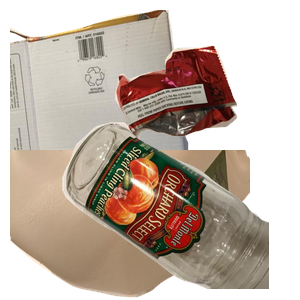cardboard: (10, 10, 191, 190)
glass: (60, 120, 300, 300)
plastic: (10, 150, 250, 300)
trash: (113, 43, 300, 181)
